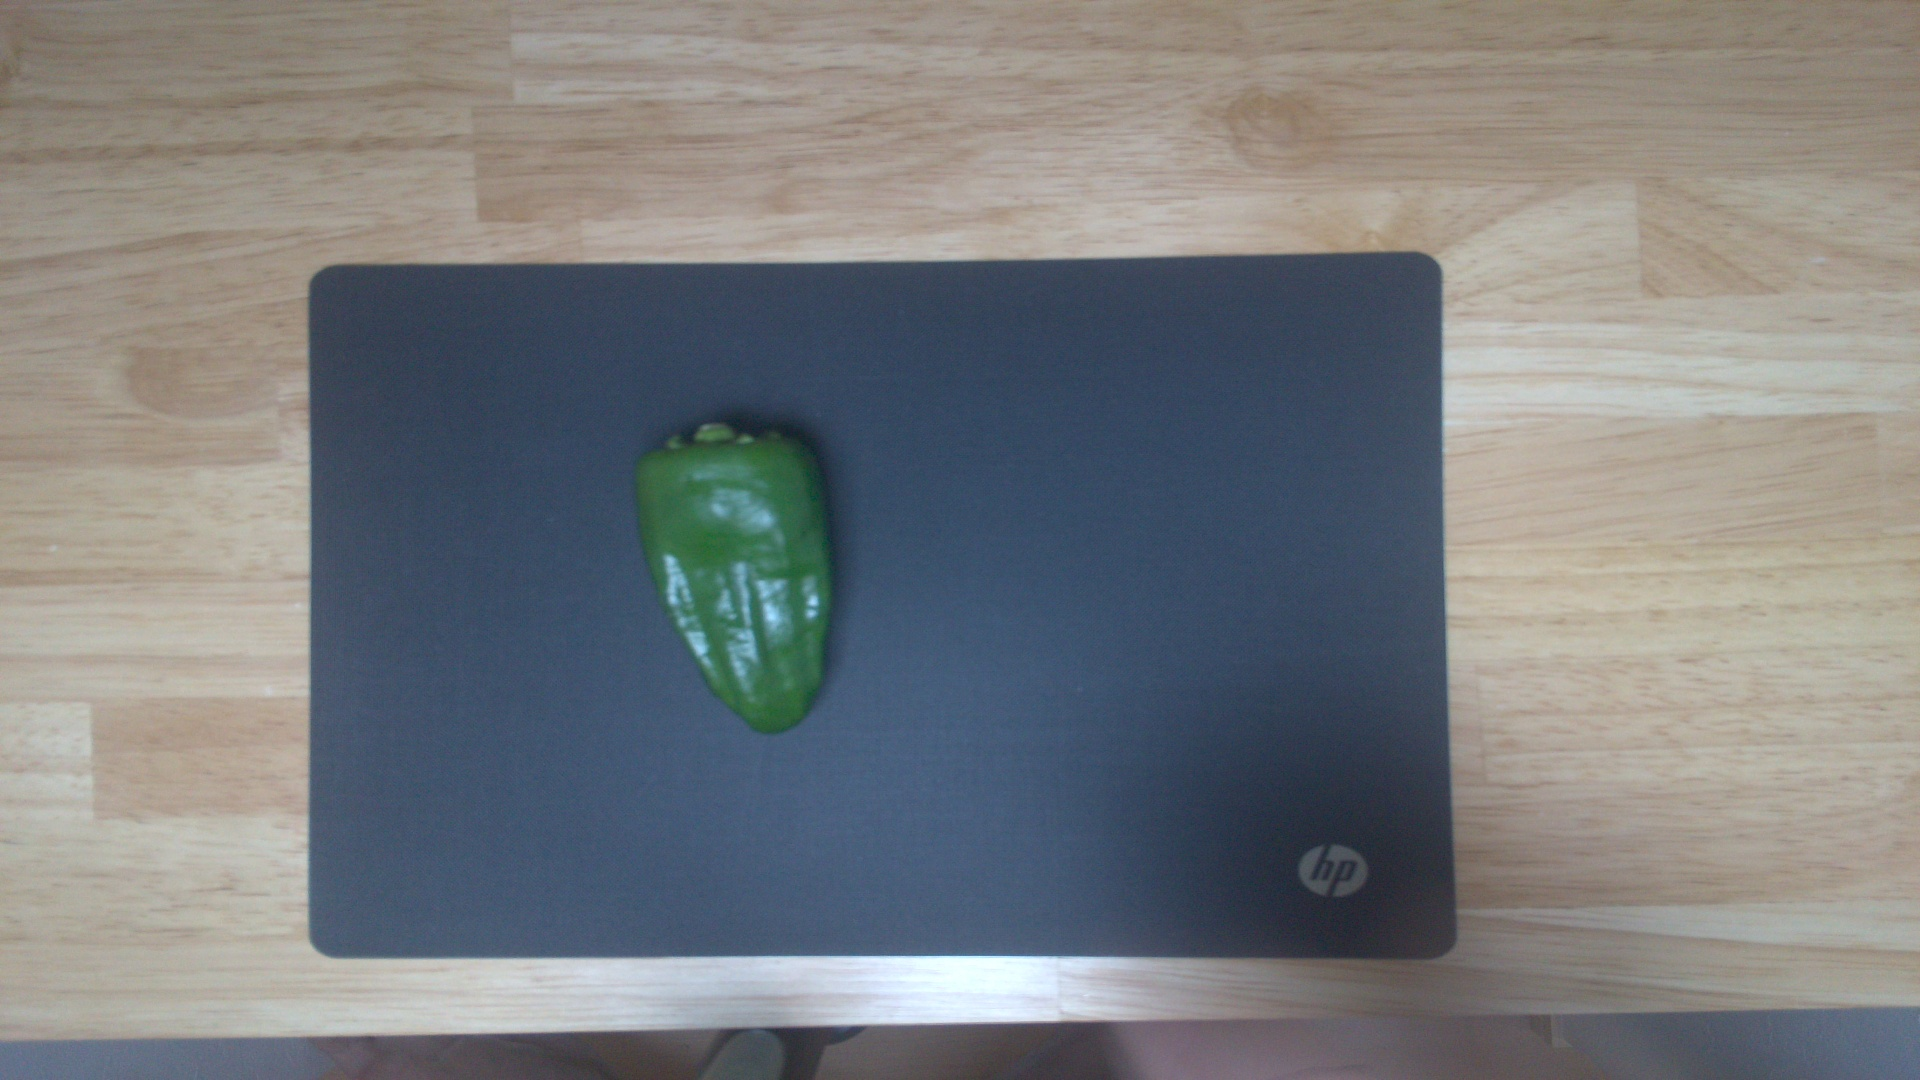Piman: (630, 419, 839, 738)
